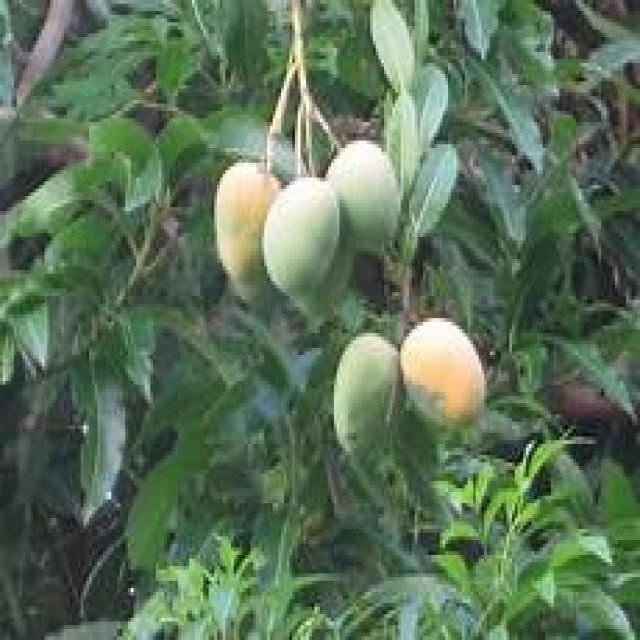Mango: (401, 314, 484, 430), (262, 176, 340, 294), (333, 334, 399, 458), (340, 136, 400, 254), (211, 158, 259, 286)
